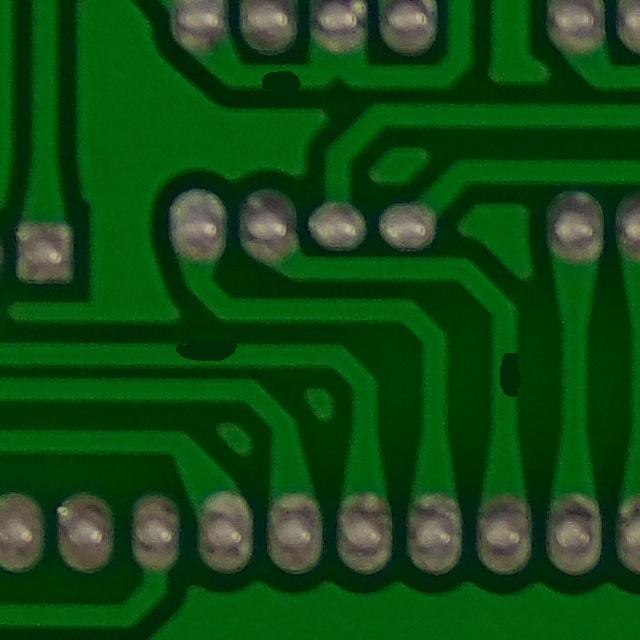mouse_bite: (157, 329, 262, 379), (475, 346, 547, 411), (237, 58, 319, 108)
